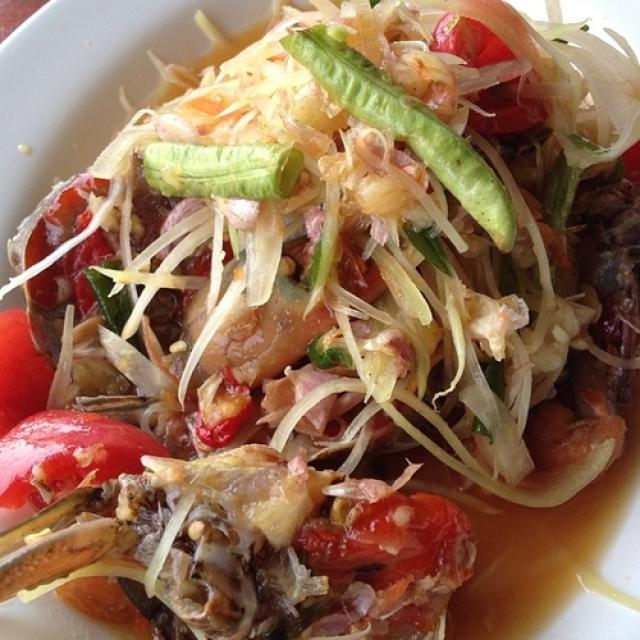蔬菜料理: (11, 15, 621, 613)
